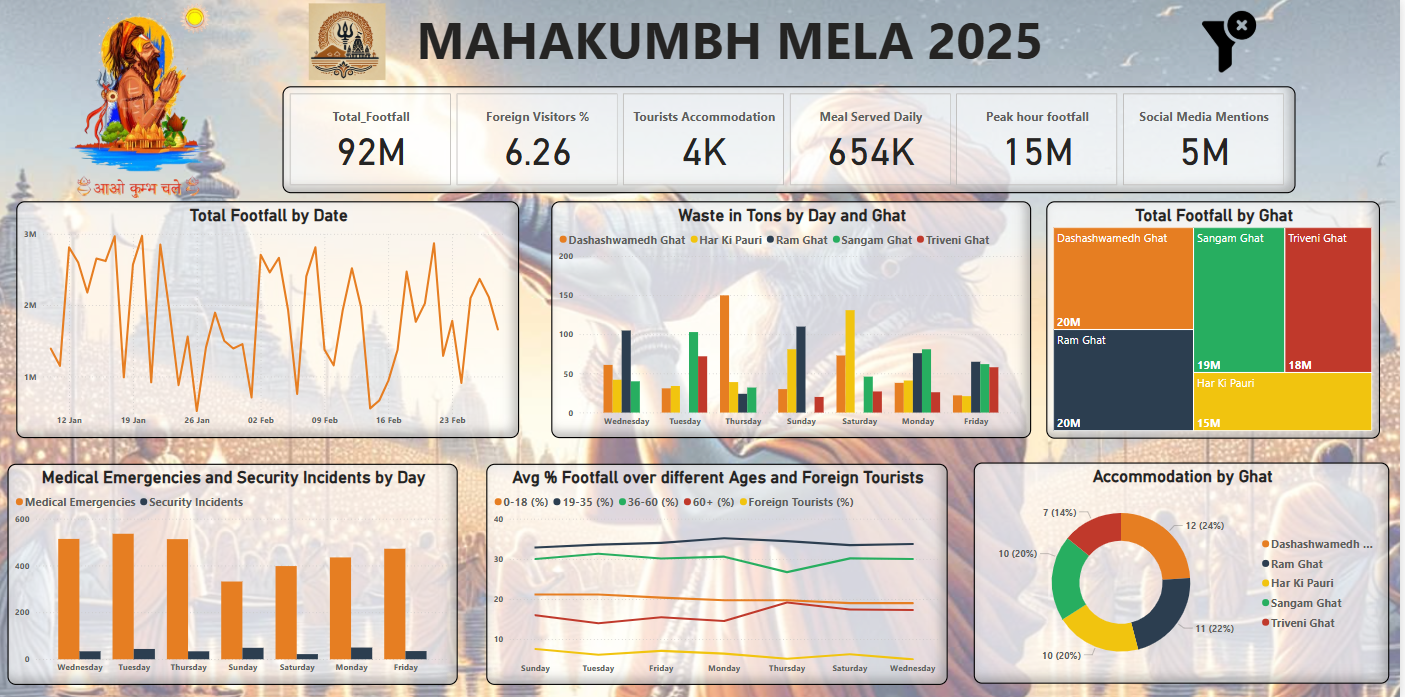

What the dashboard file says about the page in this screenshot:
{"tool":"powerbi","page":{"name":"Dashboard","canvas":[2000,1000],"ordinal":0},"visuals":[{"type":"group","id":"g1","title":"Group 1","box":[448.6,1.8,1189.3,119.6],"z":0,"group":"g2"},{"type":"textbox","box":[448.6,1.8,1189.3,119.6],"z":0,"group":"g1"},{"type":"cardVisual","fields":{"Data":["'Measures'.Total_Footfall","'Measures'.Foreign Visitors %","'Measures'.Tourists Accommodation","'Measures'.Meal Served Daily","'Measures'.Peak hour footfall","'Measures'.Social Media Mentions"]},"box":[404.1,122.4,1446.9,153.1],"z":0},{"type":"image","box":[411.1,0,169.6,119.6],"z":1000,"group":"g2"},{"type":"lineChart","title":"Total Footfall by Date","fields":{"Y":["'Measures'.Total_Footfall"],"Category":["Mahakumbh_Footfall_Analytics.Date"]},"box":[24,288.3,718.6,338.1],"z":1000},{"type":"lineChart","title":"Avg % Footfall over different Ages and Foreign Tourists","fields":{"Y":["Avg(Mahakumbh_Footfall_Analytics.0-18 (%))","Avg(Mahakumbh_Footfall_Analytics.19-35 (%))","Avg(Mahakumbh_Footfall_Analytics.36-60 (%))","Avg(Mahakumbh_Footfall_Analytics.60+ (%))","Avg(Mahakumbh_Footfall_Analytics.Foreign Tourists (%))"],"Category":["Mahakumbh_Footfall_Analytics.Day"]},"box":[694.6,662.5,658.9,316.1],"z":2000},{"type":"treemap","title":"Total Footfall by Ghat","fields":{"Group":["Mahakumbh_Footfall_Analytics.Ghat Name"],"Values":["'Measures'.Total_Footfall"]},"box":[1494.6,287.5,476.8,339.3],"z":3000},{"type":"donutChart","title":"Accommodation by Ghat","fields":{"Y":["CountNonNull(Mahakumbh_Footfall_Analytics.Accommodation (%))"],"Category":["Mahakumbh_Footfall_Analytics.Ghat Name"]},"box":[1391.8,661.2,593.9,316.3],"z":4000},{"type":"clusteredColumnChart","title":"Waste in Tons by Day and Ghat","fields":{"Y":["Sum(Mahakumbh_Footfall_Analytics.Waste (Tons))"],"Series":["Mahakumbh_Footfall_Analytics.Ghat Name"],"Category":["Mahakumbh_Footfall_Analytics.Day"]},"box":[786.9,288.1,685.3,338.5],"z":5000},{"type":"clusteredColumnChart","title":"Medical Emergencies and Security Incidents by Day","fields":{"Category":["Mahakumbh_Footfall_Analytics.Day"],"Y":["Sum(Mahakumbh_Footfall_Analytics.Medical Emergencies)","Sum(Mahakumbh_Footfall_Analytics.Security Incidents)"]},"box":[11.5,662.7,642.9,315.9],"z":6000},{"type":"image","box":[0,0,396.4,287.3],"z":7000},{"type":"group","id":"g2","title":"Group 2","box":[411.1,0,1225.9,122.2],"z":8000},{"type":"image","title":"Image 2","box":[1637,10.6,237,98.1],"z":11000}]}

Visuals, with their boxes in screenshot pixels (x1, y1, x2, y2), scaled from the page's 2000x1000 canvas onto the 1405x697 screenshot:
"Group 1" group: <region>315, 1, 1151, 85</region>
textbox: <region>315, 1, 1151, 85</region>
cardVisual - 'Measures'.Total_Footfall x 'Measures'.Foreign Visitors %: <region>284, 85, 1300, 192</region>
image: <region>289, 0, 408, 83</region>
"Total Footfall by Date" lineChart: <region>17, 201, 522, 437</region>
"Avg % Footfall over different Ages and Foreign Tourists" lineChart: <region>488, 462, 951, 682</region>
"Total Footfall by Ghat" treemap: <region>1050, 200, 1385, 437</region>
"Accommodation by Ghat" donutChart: <region>978, 461, 1395, 681</region>
"Waste in Tons by Day and Ghat" clusteredColumnChart: <region>553, 201, 1034, 437</region>
"Medical Emergencies and Security Incidents by Day" clusteredColumnChart: <region>8, 462, 460, 682</region>
image: <region>0, 0, 278, 200</region>
"Group 2" group: <region>289, 0, 1150, 85</region>
"Image 2" image: <region>1150, 7, 1316, 76</region>
